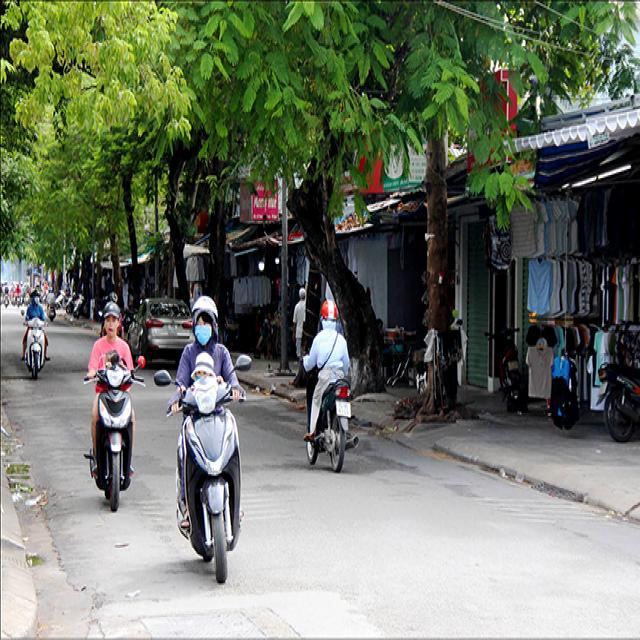helmet: (321, 300, 338, 321)
